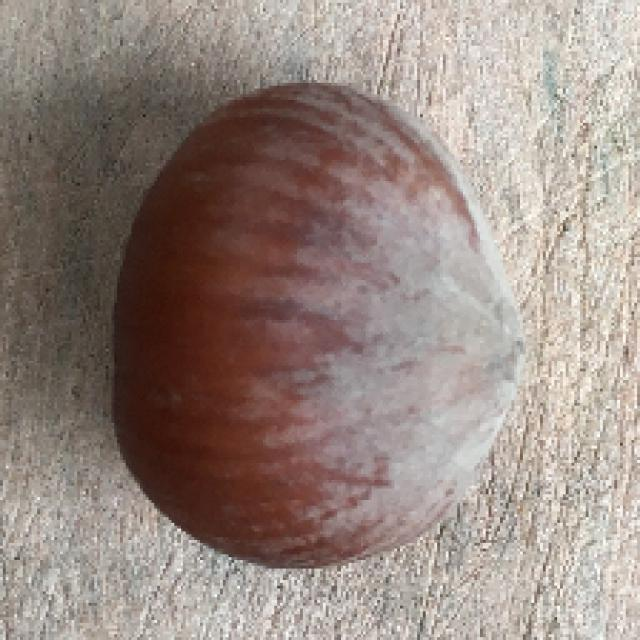qualityHazelnut: (100, 73, 530, 578)
